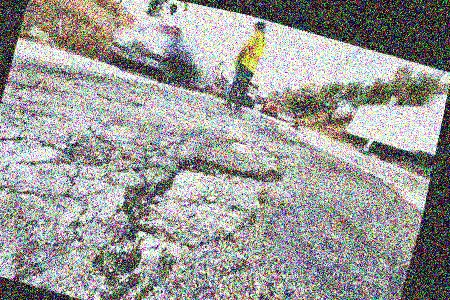pothole: (110, 127, 289, 274), (82, 234, 179, 300), (225, 134, 286, 166)
